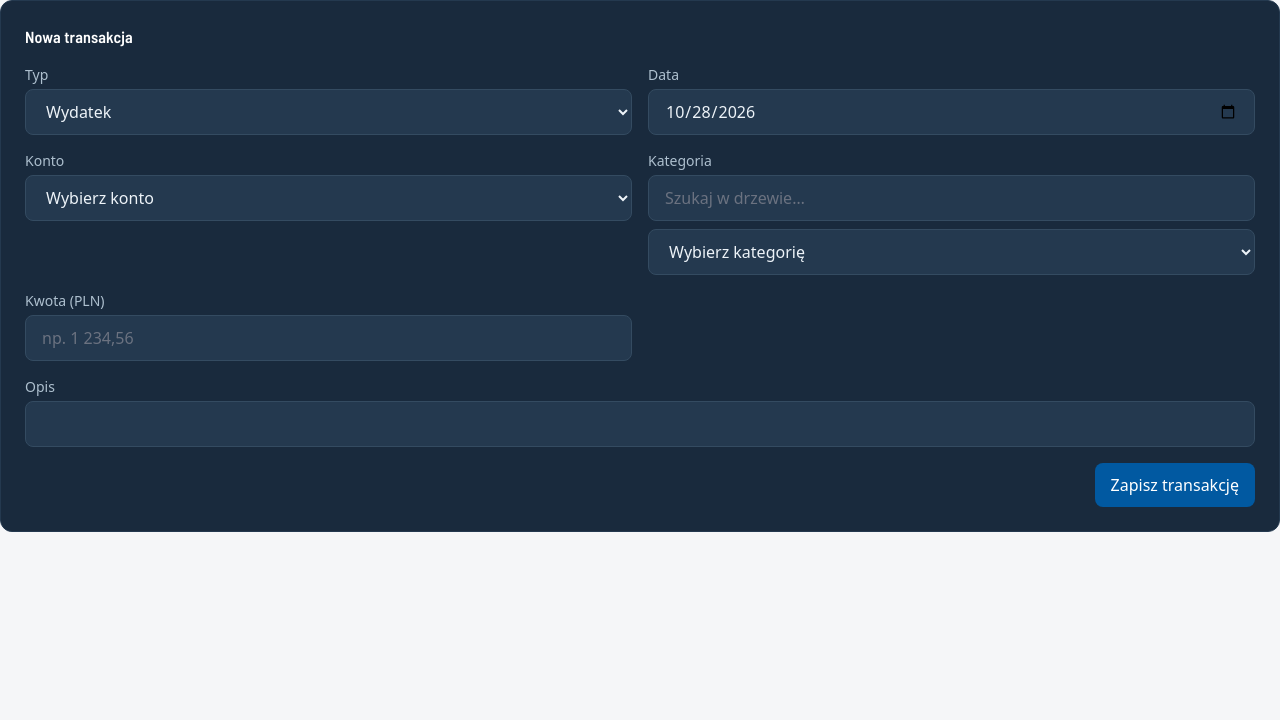
Test: TransactionForm › shows a message and does not submit when both accounts are PLN
The width and height of the screenshot is (1280, 720).
Select "Przewalutowanie" in the dropdown labelled "Typ" at (328, 112), box [25,89,632,135]
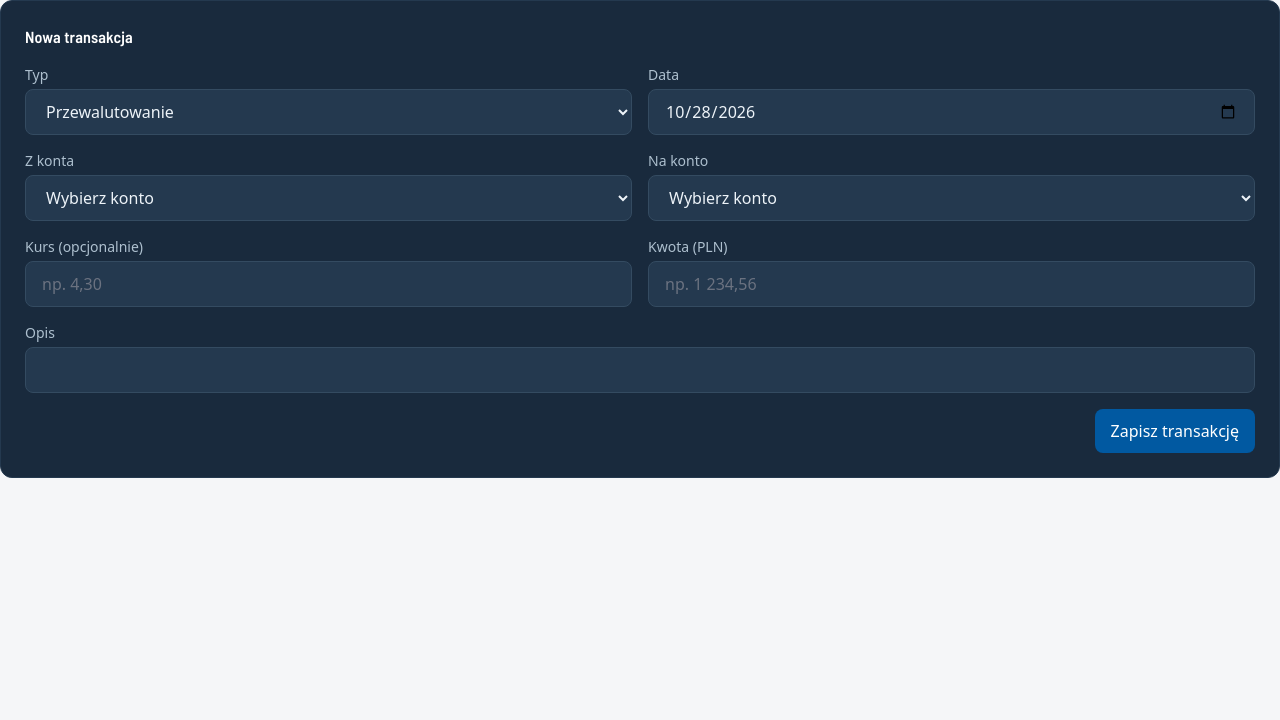
Select "Rachunek a1" in the dropdown labelled "Z konta" at (328, 198), box [25,175,632,221]
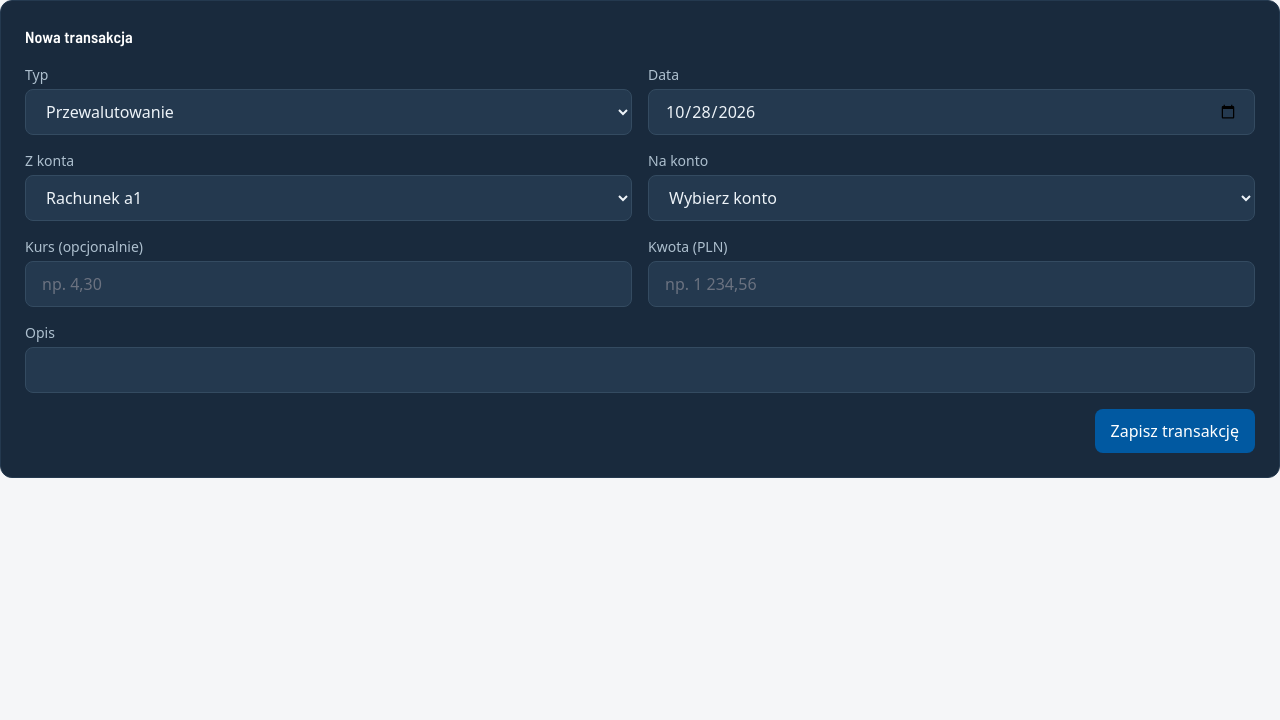
Select "Rachunek a2" in the dropdown labelled "Na konto" at (952, 198), box [648,175,1255,221]
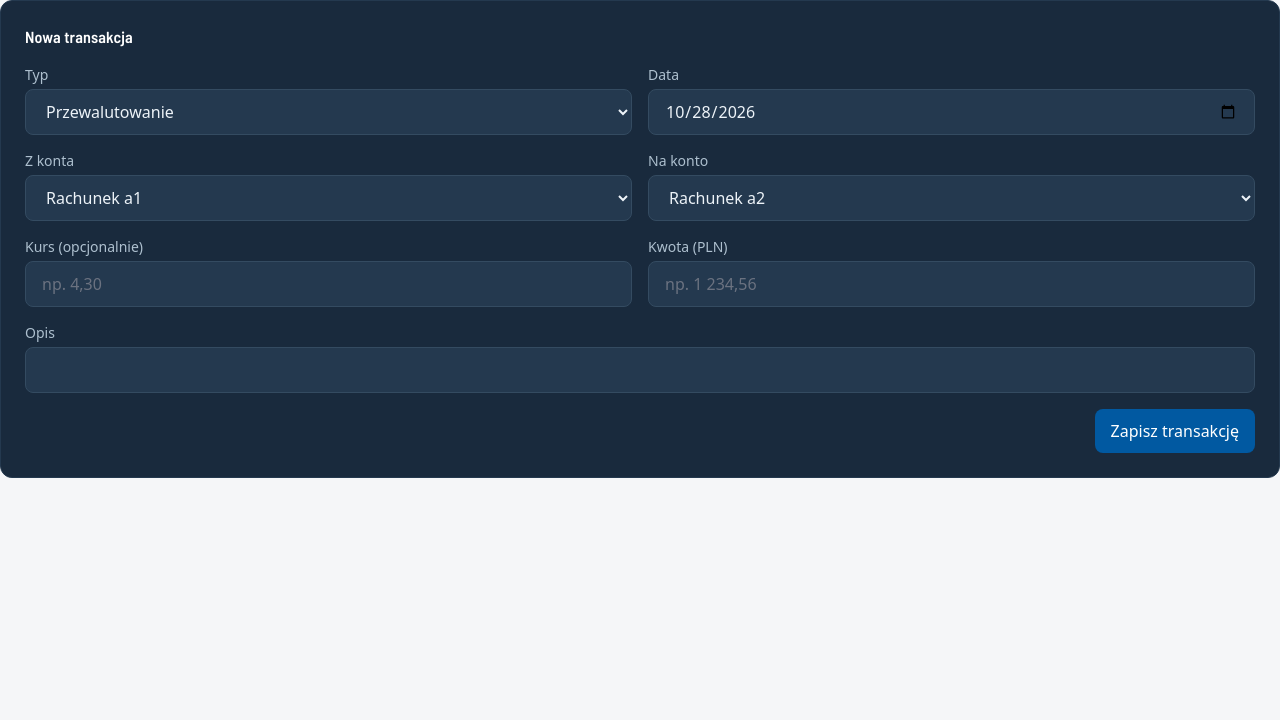
Type "43" into the field labelled "Kwota (PLN)" at (952, 284), box [648,261,1255,307]
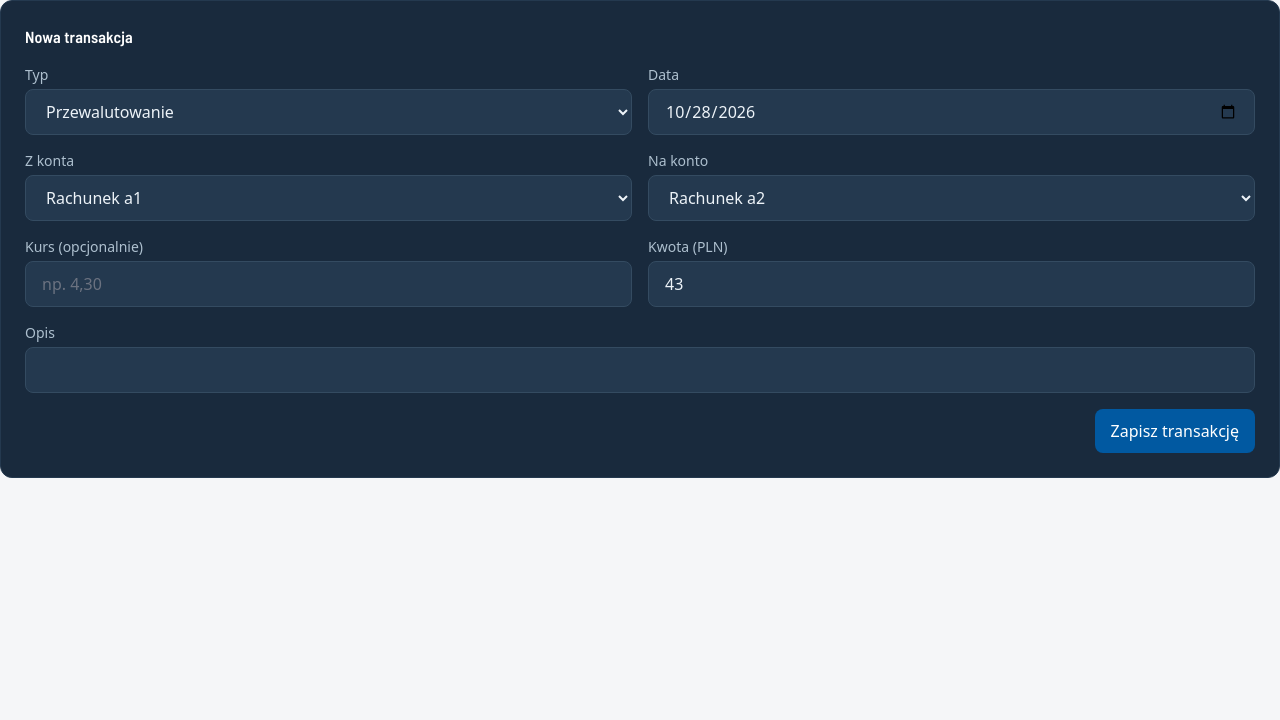
Type "wymiana" into the field labelled "Opis" at (640, 370), box [25,347,1255,393]
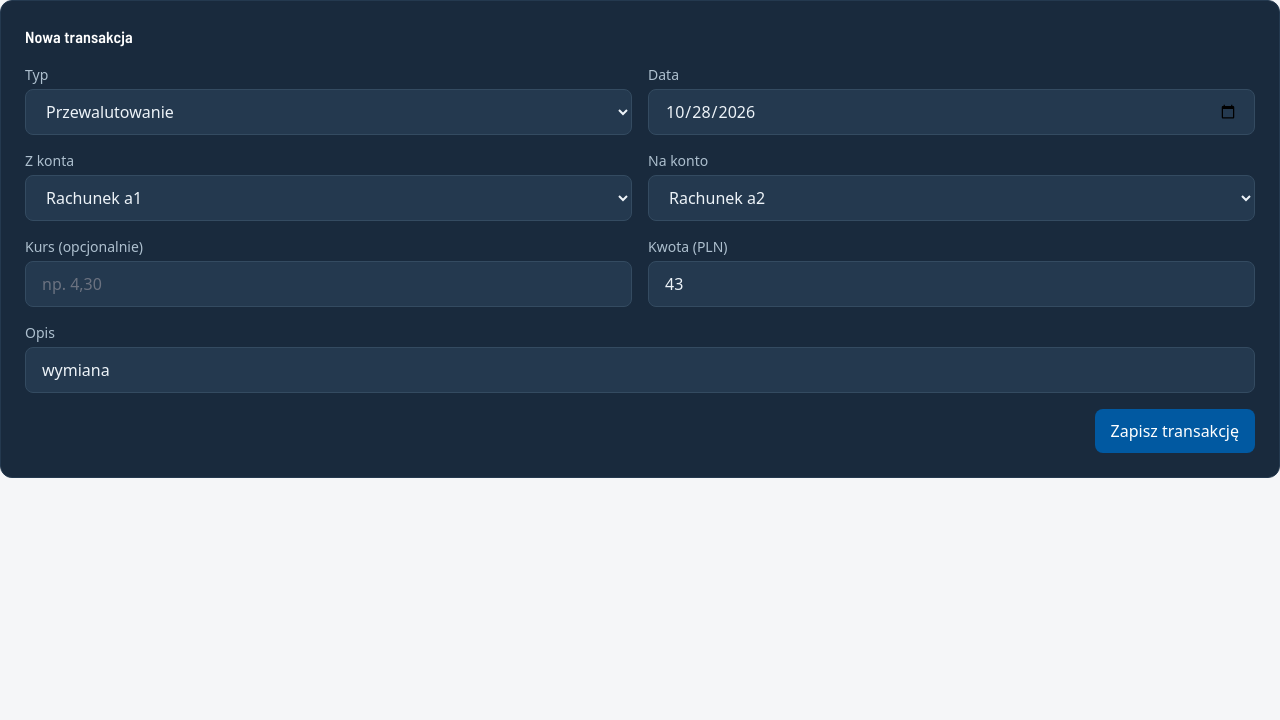
Click the button "Zapisz transakcję" at (1175, 431), box [1095,409,1255,453]
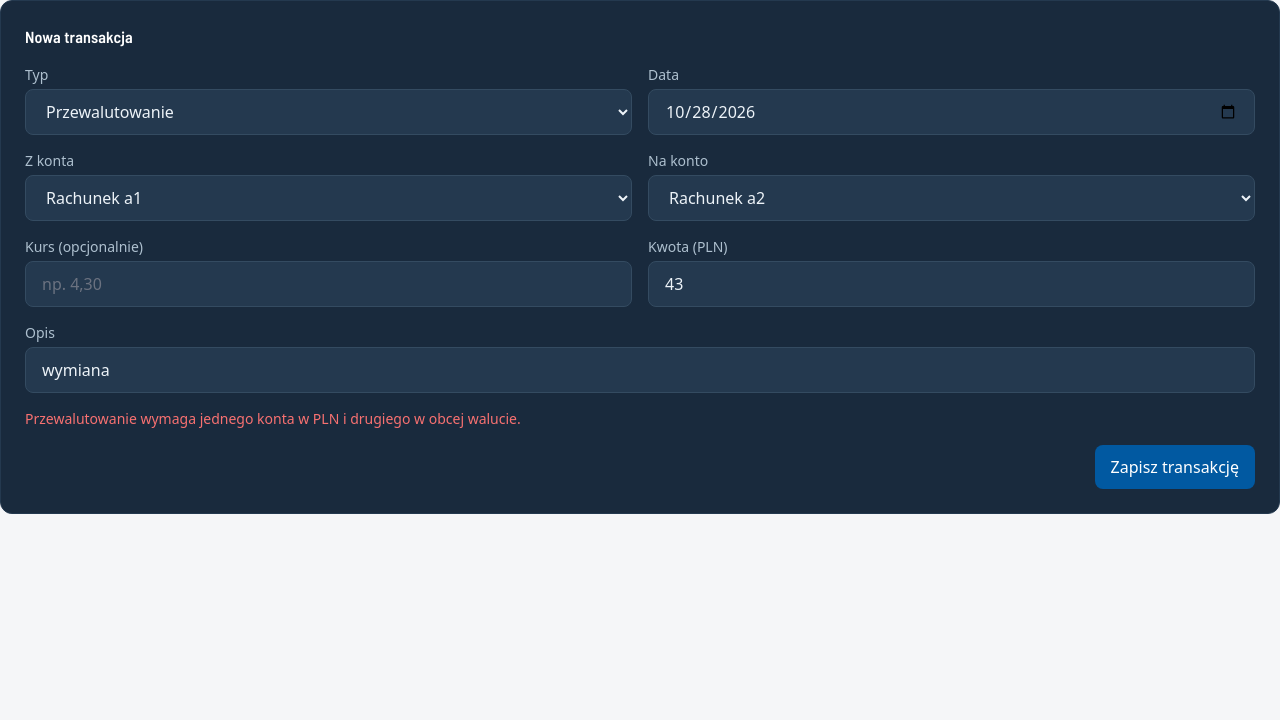
Now the message reads "Przewalutowanie wymaga jednego konta w PLN i drugiego w obcej walucie.", box [25,409,521,428]
